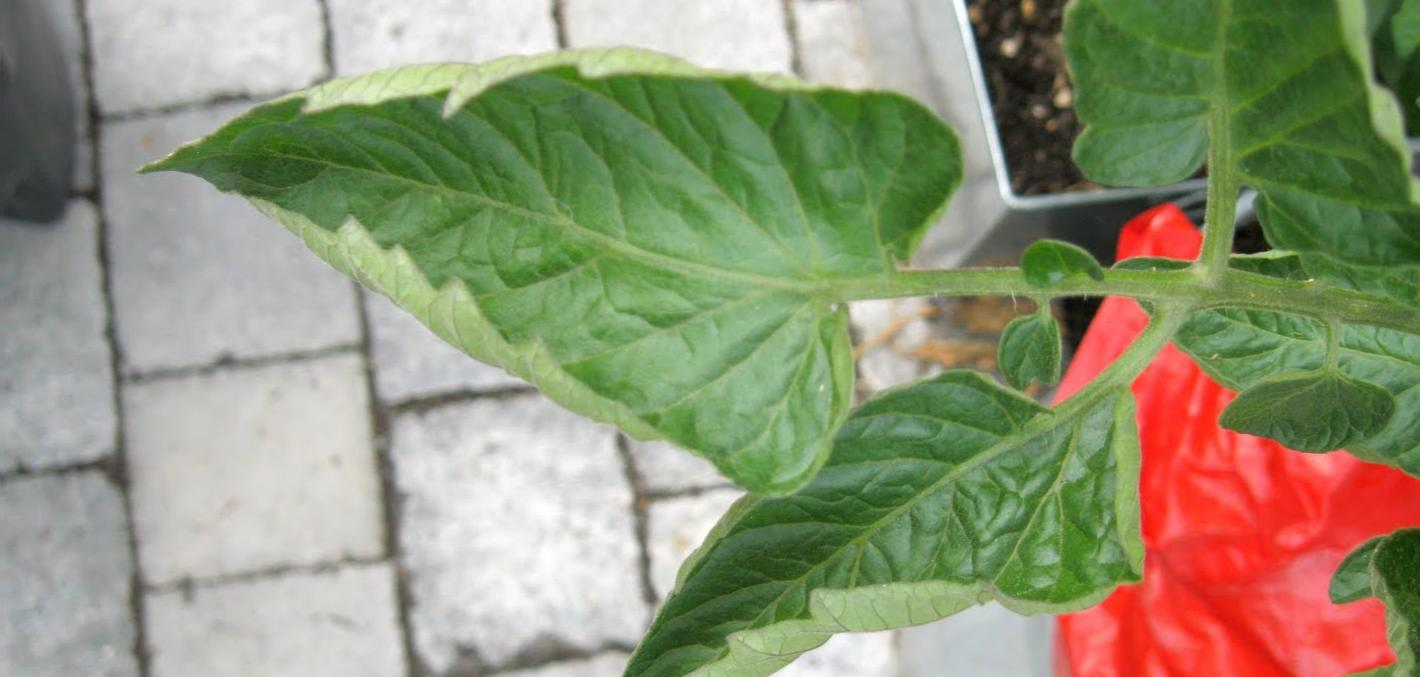Tomato leaf: (175, 61, 964, 497), (558, 355, 1164, 677), (1053, 0, 1420, 274)
